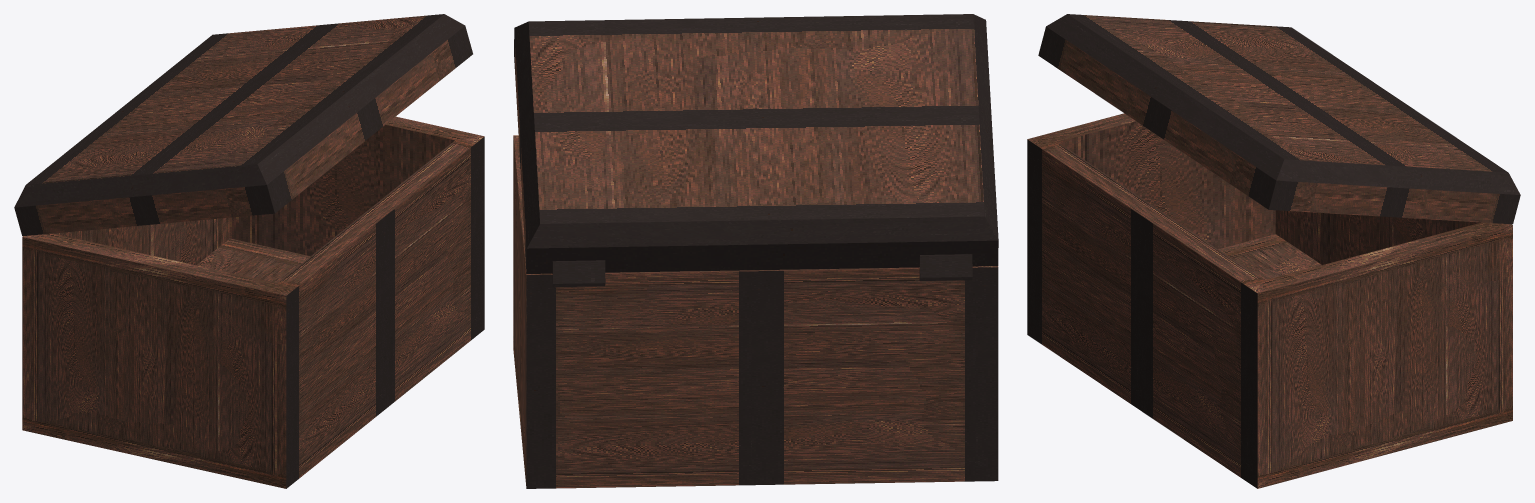
Rendered from cofre2.glb.
The picture shows the model from 3 angles, left to right: view 1: azimuth 30°, elevation 25°; view 2: azimuth 150°, elevation 25°; view 3: azimuth 270°, elevation 25°; orthographic projection. The views are drawn at different scales.
Parts seen in each view (by area): view 1: Chest_1, Chest_1_lid; view 2: Chest_1_lid, Chest_1; view 3: Chest_1, Chest_1_lid.
Part boxes in pixels (x1=…): Chest_1: x1=22, y1=116, x2=484, y2=488; Chest_1_lid: x1=14, y1=14, x2=472, y2=236; Chest_1_lid: x1=514, y1=14, x2=998, y2=273; Chest_1: x1=513, y1=135, x2=998, y2=488; Chest_1: x1=1027, y1=113, x2=1512, y2=488; Chest_1_lid: x1=1038, y1=14, x2=1520, y2=224.
Size of the model in its own units: 1.17 by 0.7687 by 1.09.
Materials: 1 (1 with a texture image).
